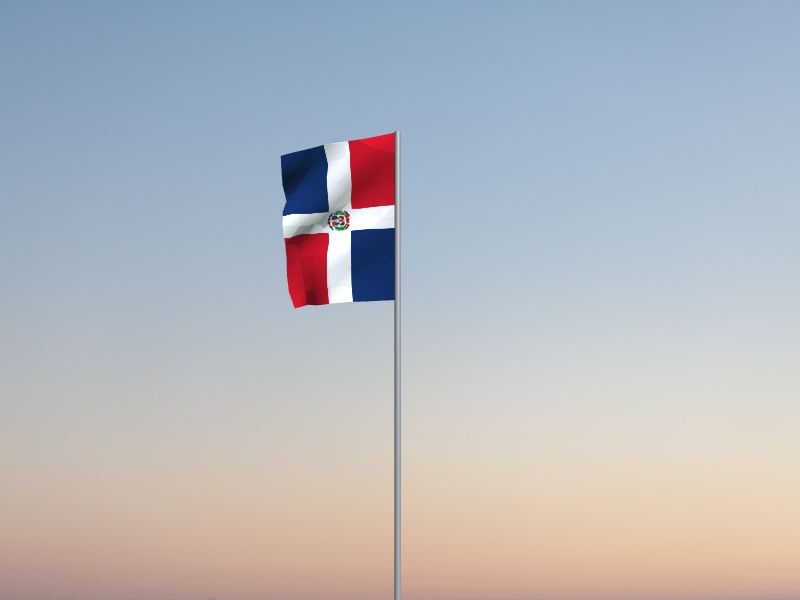do: (280, 134, 394, 311)
